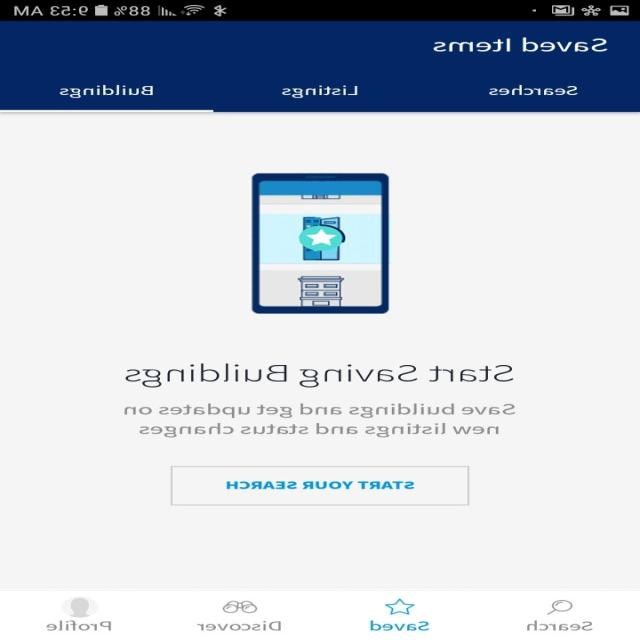Icon: (62, 596, 100, 618), (385, 598, 417, 615), (546, 599, 572, 615)
Image: (252, 172, 391, 314), (224, 600, 258, 613)
Text: (124, 402, 516, 438), (125, 363, 515, 387), (433, 37, 608, 52), (59, 85, 154, 98), (489, 84, 579, 96), (282, 85, 358, 98), (197, 620, 282, 631), (526, 620, 593, 630), (46, 620, 112, 630), (370, 620, 430, 630)
TextButton: (172, 466, 468, 505)
